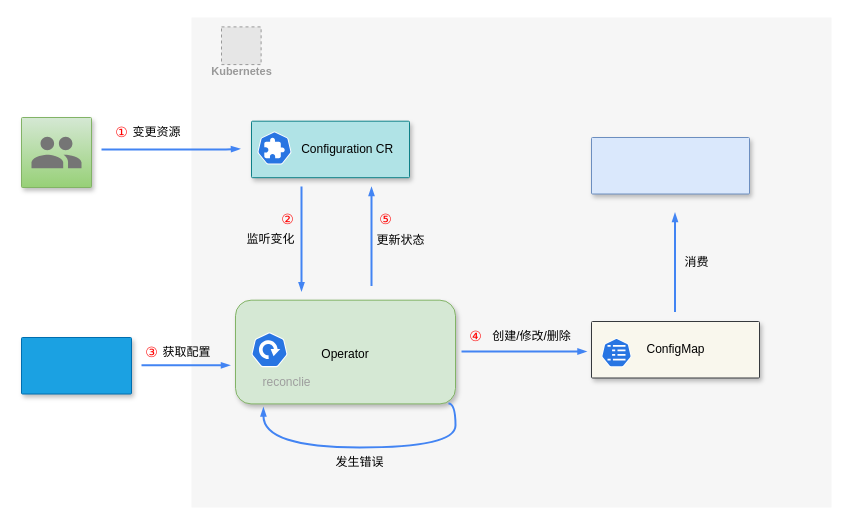
This 849x524 diagram has some shape labels left out. Grey dashed boxes stand in for pictures. The centre of each missing label's shape, as x and y in pixels:
"CCC" belongs at (x=77, y=366).
"Pod volume/env" belongs at (x=671, y=166).
